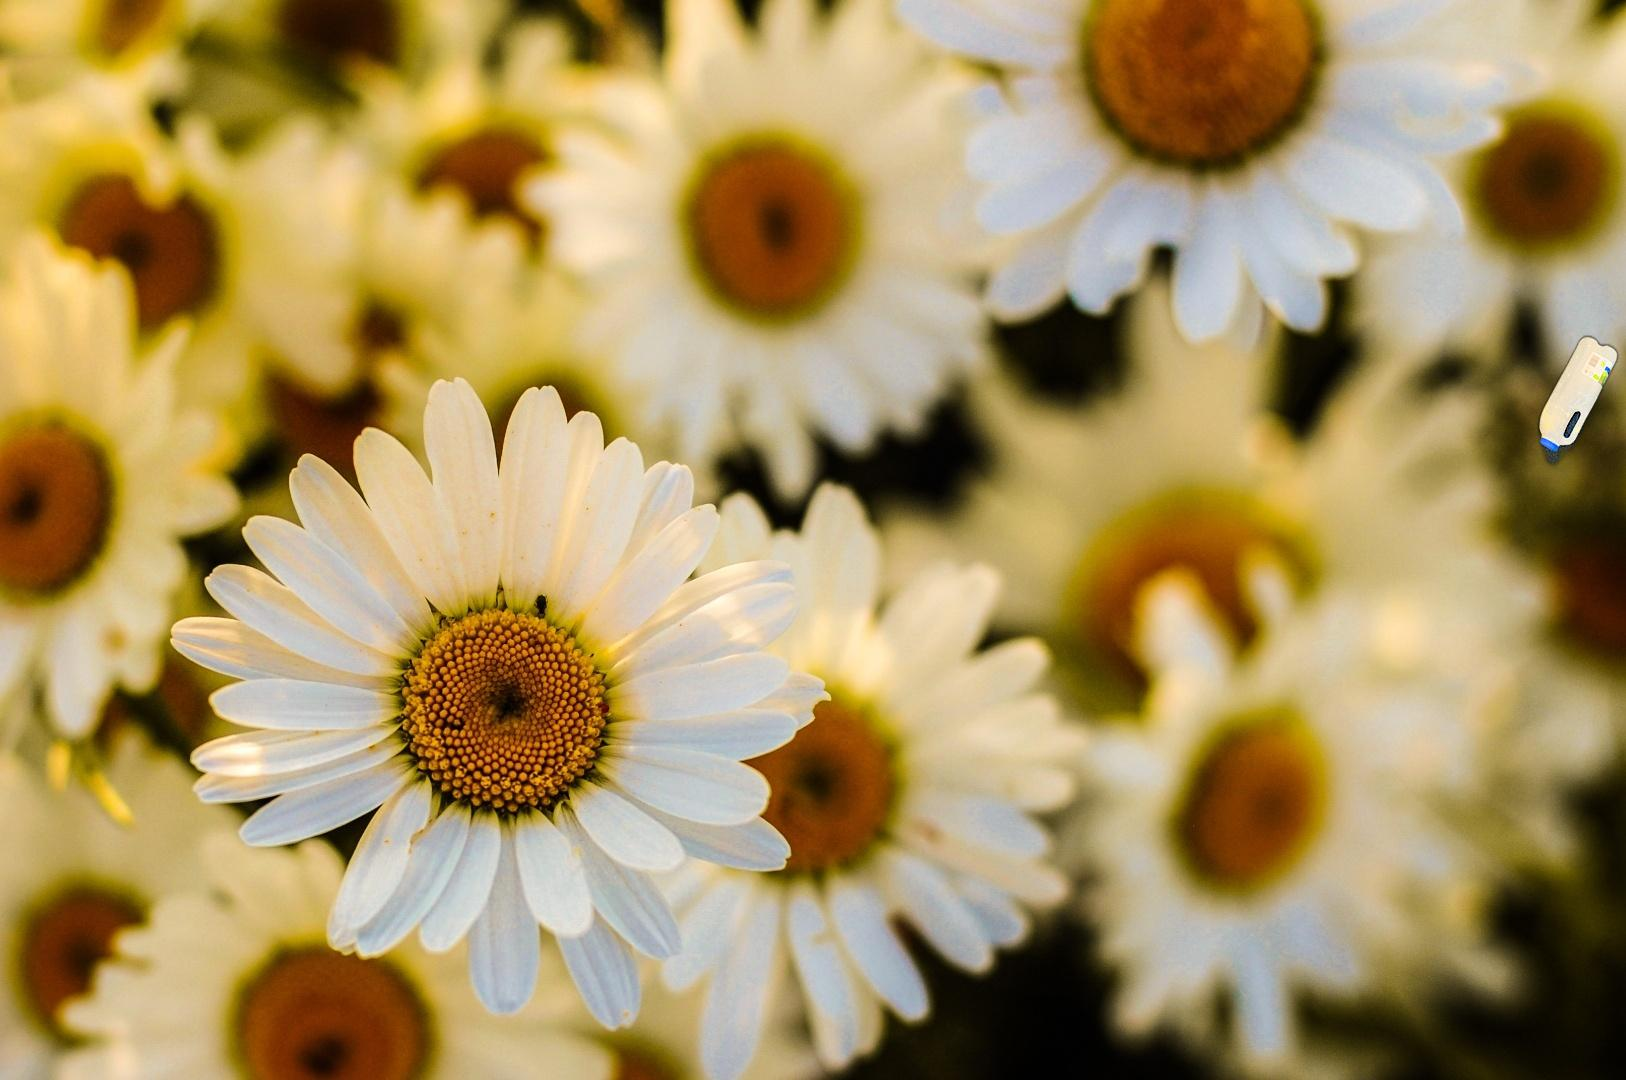plastic-bottles: (1533, 331, 1622, 471)
